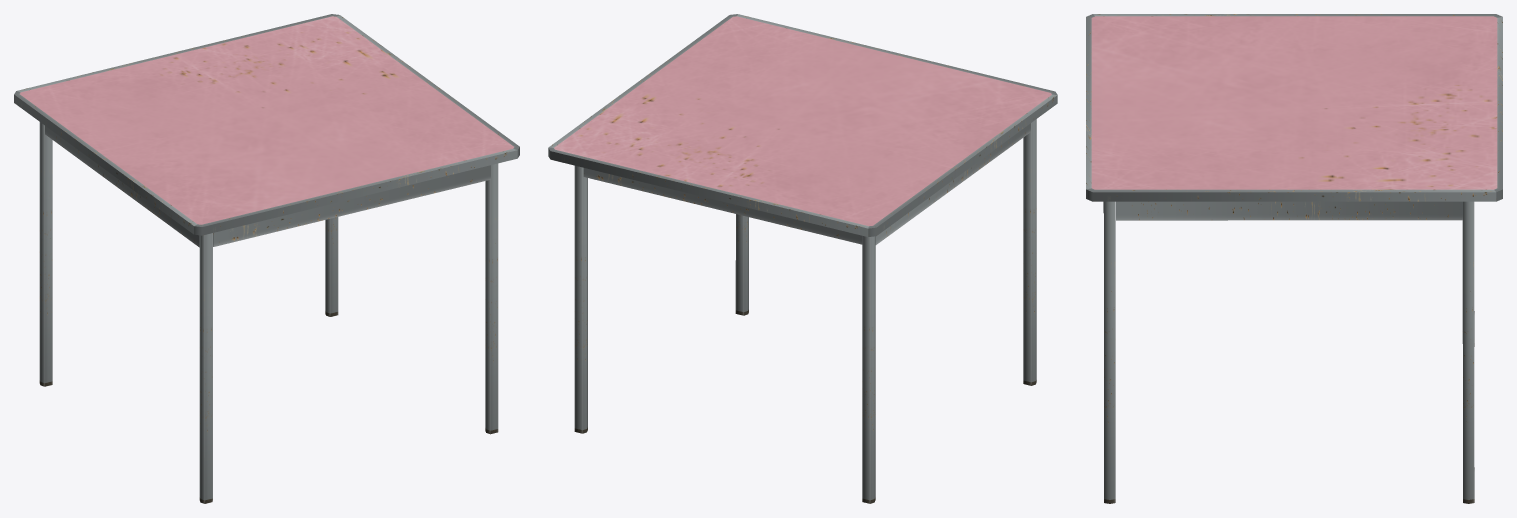
Rendered from table02b.fbx.
3 renders of one model, left to right at view 1: azimuth 30°, elevation 25°; view 2: azimuth 150°, elevation 25°; view 3: azimuth 270°, elevation 25°, orthographic. The views are drawn at different scales.
Parts seen in each view (by area): view 1: table02b; view 2: table02b; view 3: table02b.
Part boxes in pixels (x1=…): table02b: x1=14, y1=14, x2=519, y2=503; table02b: x1=548, y1=14, x2=1057, y2=503; table02b: x1=1086, y1=14, x2=1502, y2=503.
Size of the model in its own units: 105 by 88.21 by 104.
